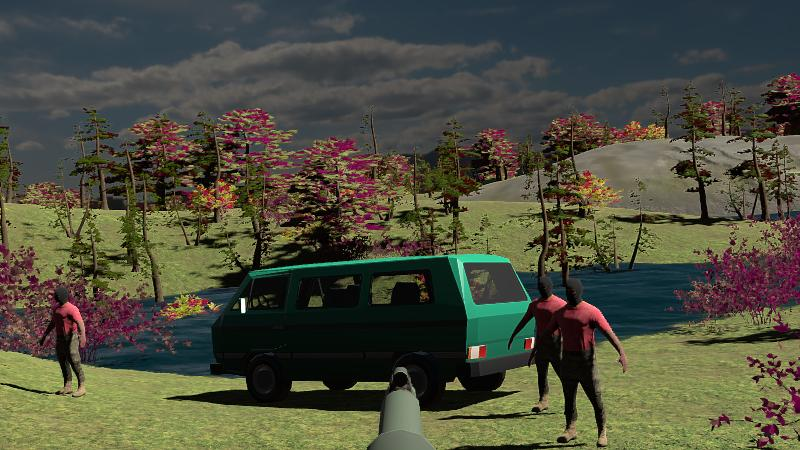Human: (546, 276, 627, 448), (508, 273, 584, 416), (40, 287, 86, 398)
car: (209, 255, 536, 407)
